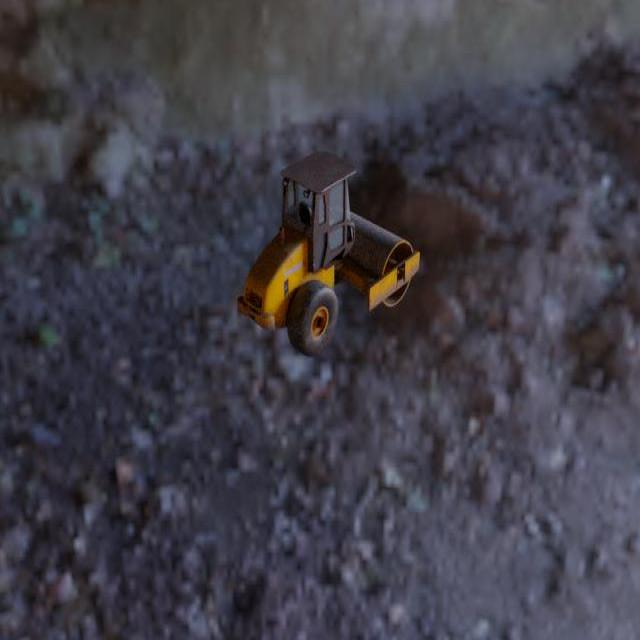Roller: (236, 150, 420, 358)
